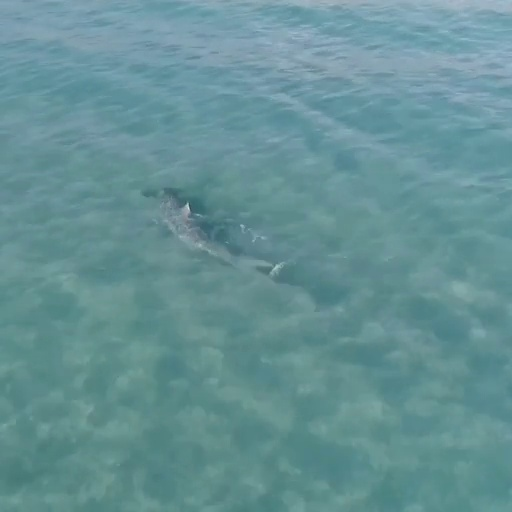shark: (138, 181, 282, 289)
